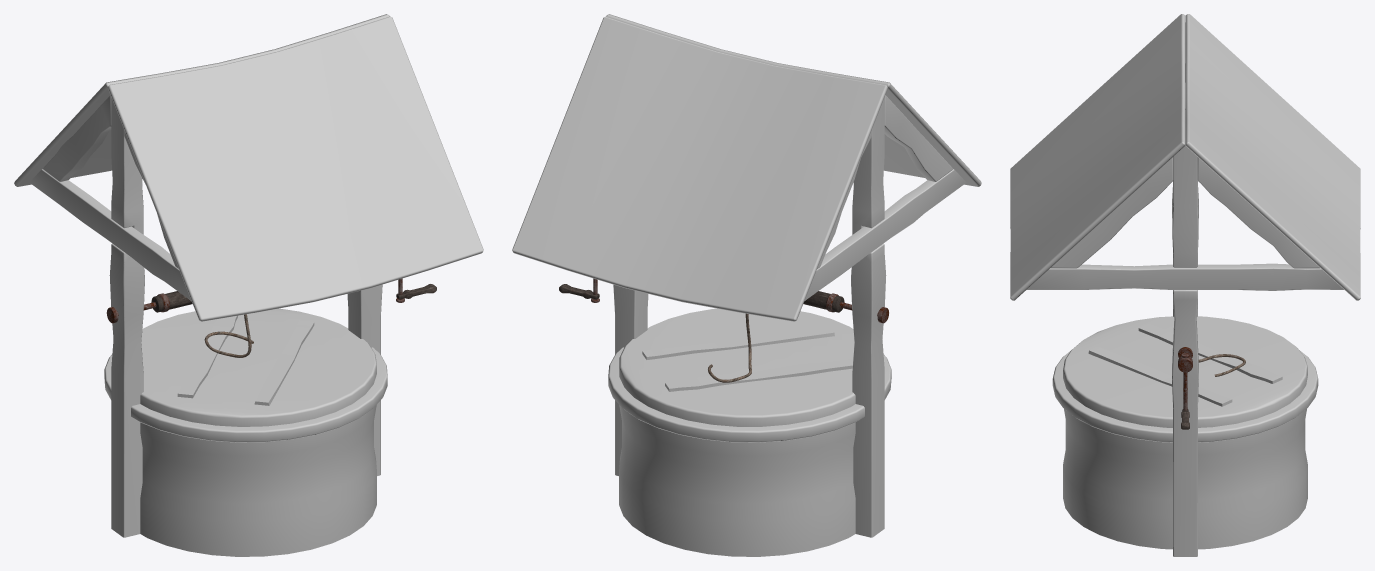
The model's file is Well.fbx.
The picture shows the model from 3 angles, left to right: view 1: azimuth 30°, elevation 25°; view 2: azimuth 150°, elevation 25°; view 3: azimuth 270°, elevation 25°; orthographic projection. The views are drawn at different scales.
Parts seen in each view (by area): view 1: well_LOD0; view 2: well_LOD0; view 3: well_LOD0.
Boxes of the visible parts, x1,y1,x2,y2 form: well_LOD0: (14,14,483,556); well_LOD0: (512,14,981,556); well_LOD0: (1010,14,1360,556).
Size of what is drawn, in the model's own units: 289 by 380 by 286.
